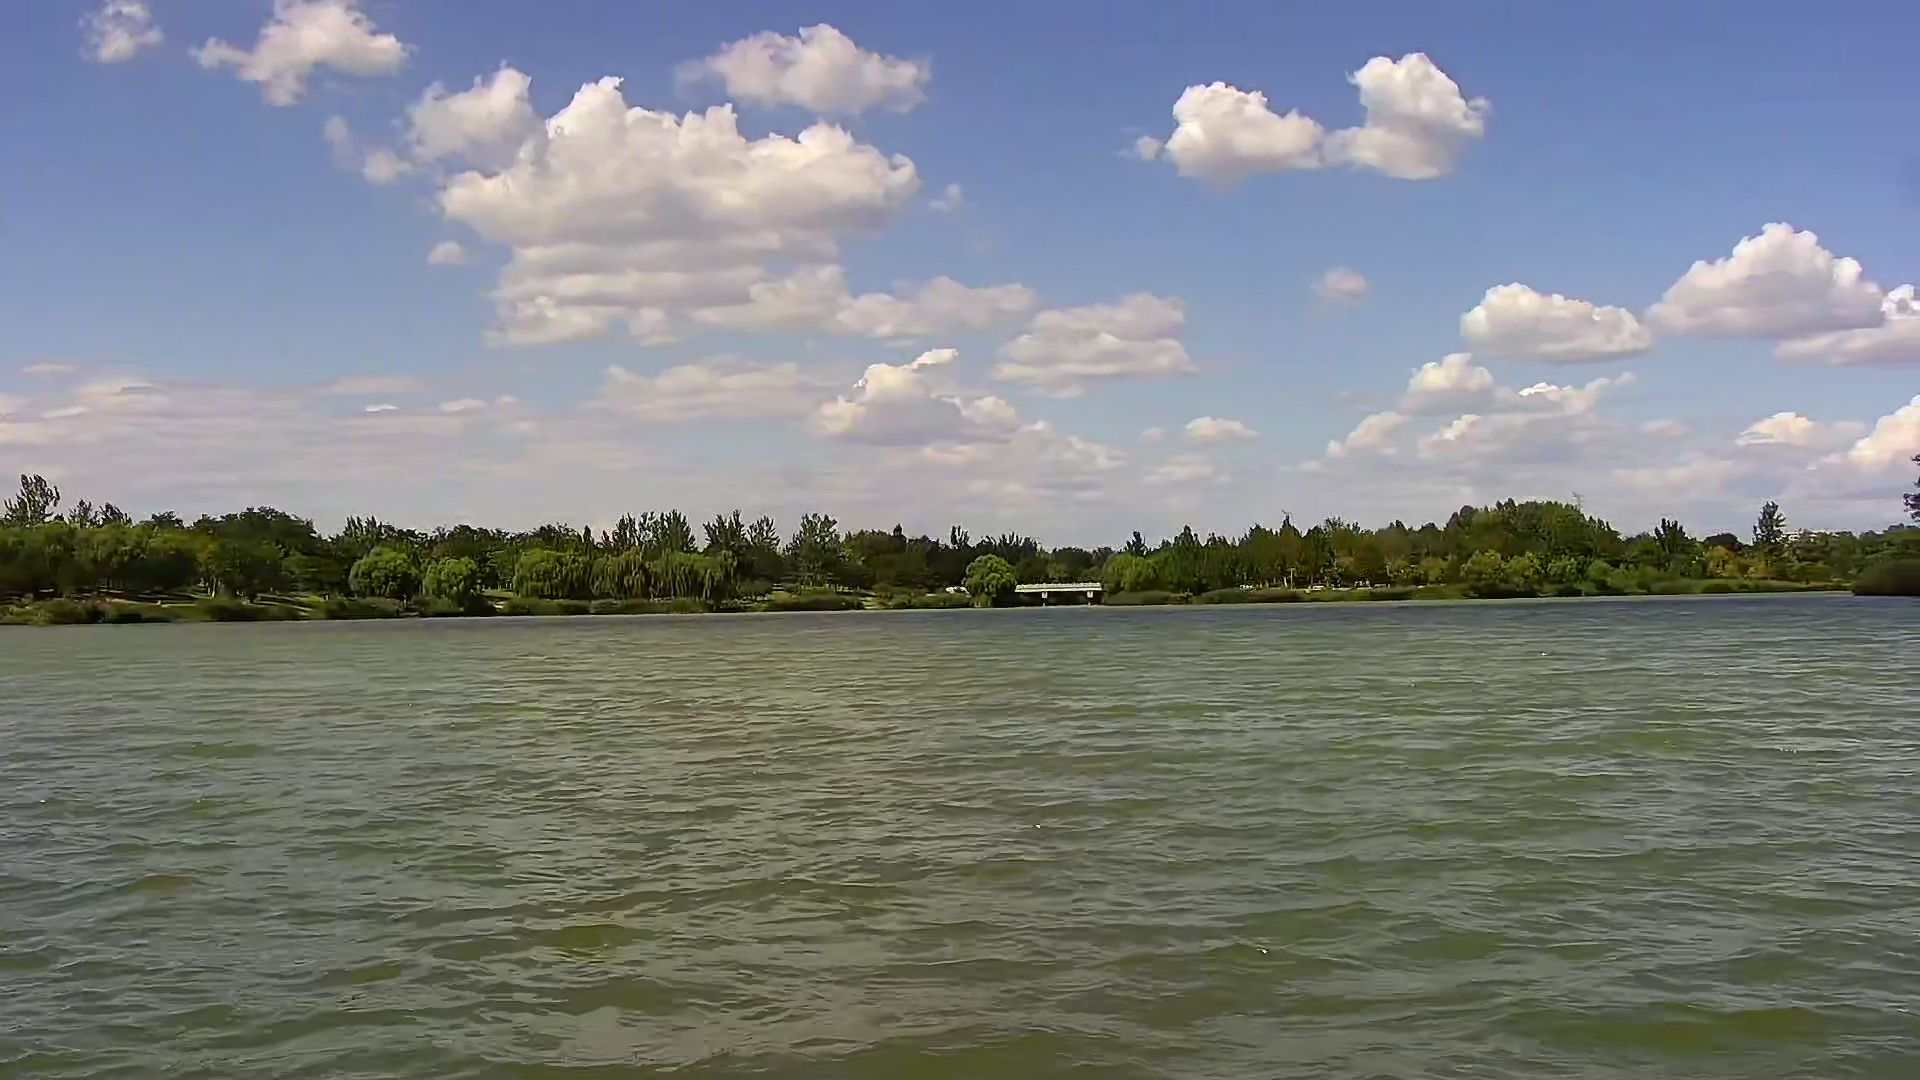bridge: (1014, 578, 1105, 612)
